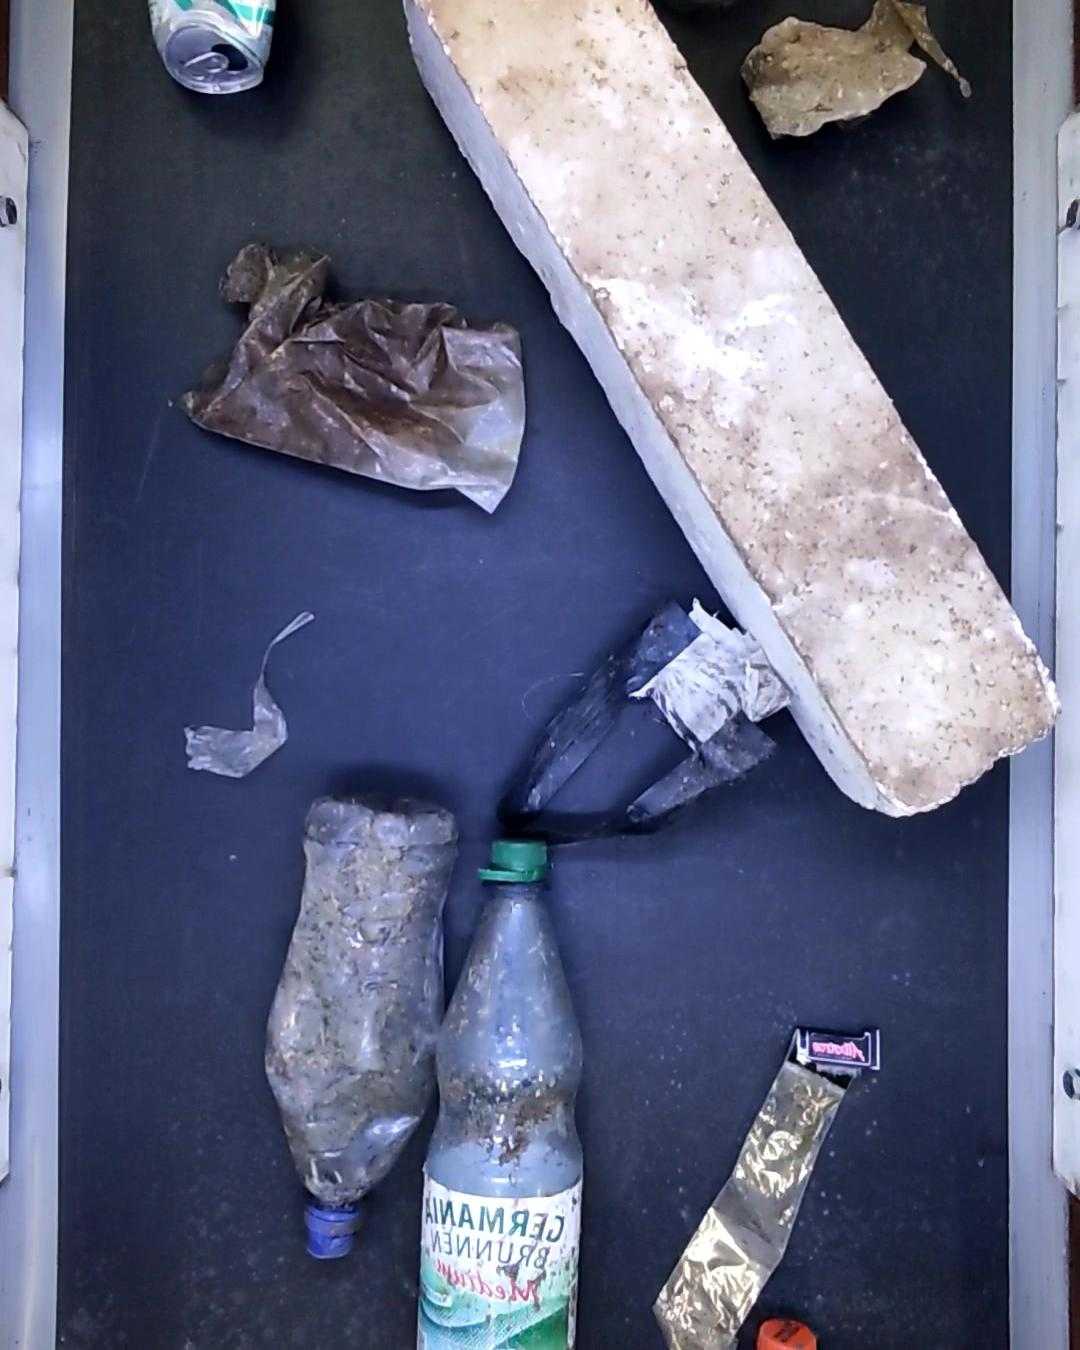Drankblikjes: (148, 0, 269, 95)
Drankflessen - 1-2 liter: (415, 821, 597, 1350), (260, 796, 463, 1265)
Plastic folies of stukken daarvan 2.5- 50 cm: (190, 247, 527, 512), (650, 1020, 888, 1350), (184, 600, 321, 776)
